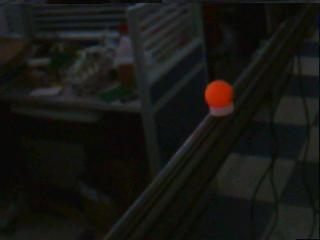oball: (204, 79, 234, 108)
